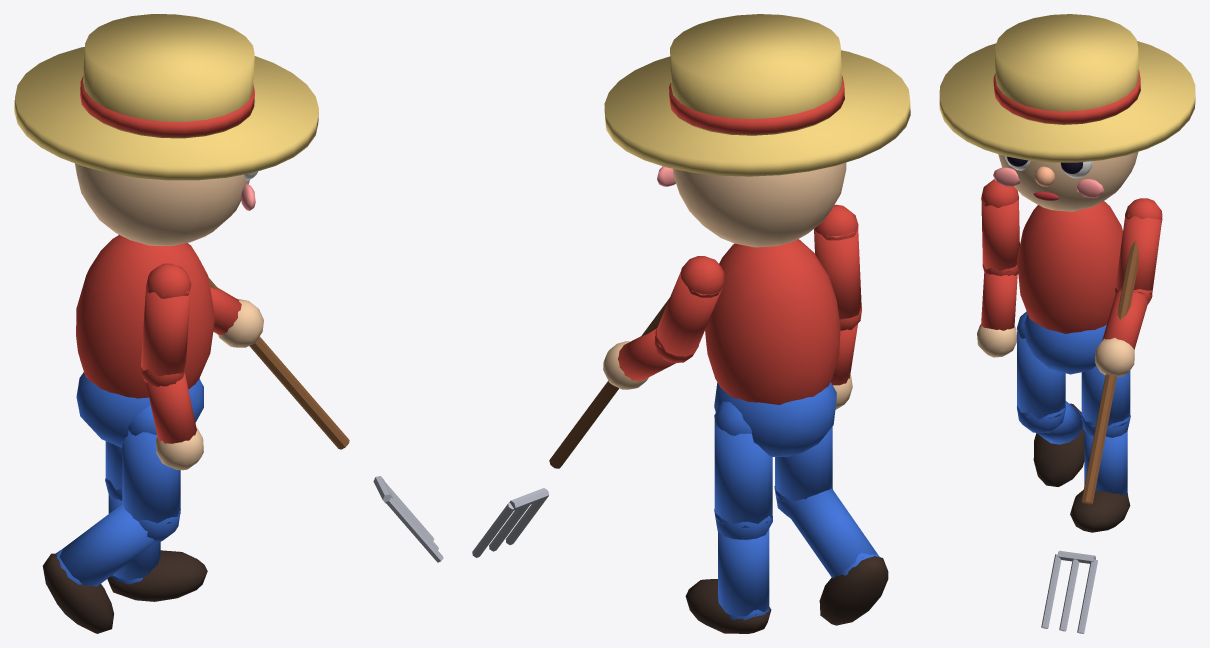
Rendered from farmar.glb.
The picture shows the model from 3 angles, left to right: view 1: azimuth 30°, elevation 25°; view 2: azimuth 150°, elevation 25°; view 3: azimuth 270°, elevation 25°; orthographic projection. The views are drawn at different scales.
Parts seen in each view (by area): view 1: Cylinder, Cylinder.001, Sphere, Sphere.002, Cylinder.008, Cylinder.007, Cylinder.003, Sphere.001, Sphere.028, Cylinder.002, Sphere.023, Cylinder.004 (+9 smaller); view 2: Cylinder, Sphere, Cylinder.001, Sphere.002, Cylinder.009, Sphere.001, Cylinder.008, Cylinder.010, Sphere.023, Cylinder.005, Cylinder.002, Cylinder.007 (+10 smaller); view 3: Cylinder, Cylinder.001, Sphere, Sphere.002, Sphere.001, Cylinder.007, Cylinder.011, Cylinder.003, Cylinder.005, Sphere.023, Cylinder.002, Cylinder.009 (+16 smaller).
Boxes of the visible parts, x1=… form: Cylinder: x1=14, y1=47, x2=318, y2=180; Cylinder.001: x1=83, y1=14, x2=254, y2=138; Sphere: x1=76, y1=235, x2=214, y2=398; Sphere.002: x1=75, y1=163, x2=249, y2=245; Cylinder.008: x1=57, y1=504, x2=155, y2=586; Cylinder.007: x1=122, y1=429, x2=180, y2=525; Cylinder.003: x1=141, y1=285, x2=190, y2=376; Sphere.001: x1=76, y1=372, x2=203, y2=447; Sphere.028: x1=107, y1=550, x2=207, y2=601; Cylinder.002: x1=80, y1=76, x2=254, y2=137; Sphere.023: x1=42, y1=553, x2=113, y2=633; Cylinder.004: x1=146, y1=373, x2=196, y2=443; Cylinder: x1=604, y1=50, x2=910, y2=176; Sphere: x1=705, y1=239, x2=840, y2=404; Cylinder.001: x1=670, y1=14, x2=841, y2=135; Sphere.002: x1=673, y1=162, x2=846, y2=247; Cylinder.009: x1=714, y1=420, x2=772, y2=527; Sphere.001: x1=714, y1=382, x2=836, y2=456; Cylinder.008: x1=789, y1=488, x2=877, y2=578; Cylinder.010: x1=718, y1=529, x2=769, y2=616; Sphere.023: x1=819, y1=556, x2=888, y2=625; Cylinder.005: x1=655, y1=271, x2=722, y2=356; Cylinder.002: x1=669, y1=76, x2=844, y2=134; Cylinder.007: x1=775, y1=426, x2=832, y2=501; Cylinder: x1=939, y1=41, x2=1195, y2=162; Cylinder.001: x1=995, y1=14, x2=1138, y2=124; Sphere: x1=1017, y1=201, x2=1122, y2=333; Sphere.002: x1=998, y1=152, x2=1138, y2=211; Sphere.001: x1=1024, y1=314, x2=1106, y2=374; Cylinder.007: x1=1017, y1=332, x2=1065, y2=419; Cylinder.011: x1=1081, y1=240, x2=1138, y2=504; Cylinder.003: x1=981, y1=196, x2=1019, y2=272; Cylinder.005: x1=1115, y1=215, x2=1161, y2=294; Sphere.023: x1=1033, y1=403, x2=1084, y2=486; Cylinder.002: x1=993, y1=70, x2=1140, y2=123; Cylinder.009: x1=1081, y1=366, x2=1130, y2=427.
Size of the model in its own units: 0.9966 by 1.33 by 0.6444.
